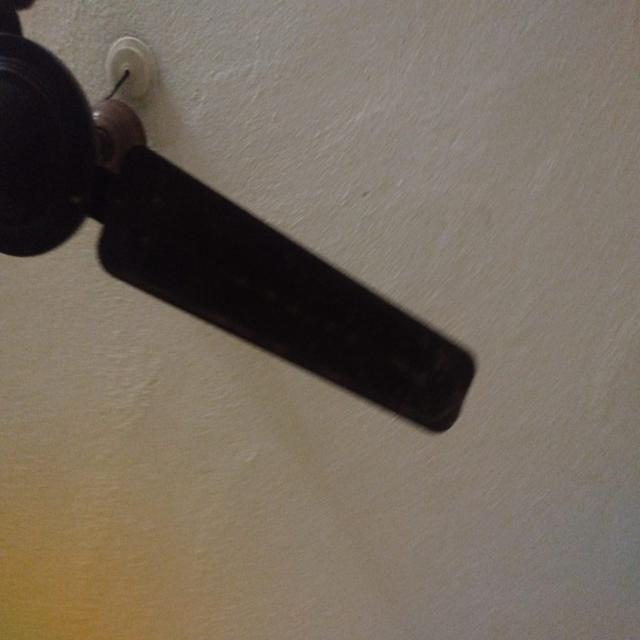fan_off: (2, 0, 481, 446)
